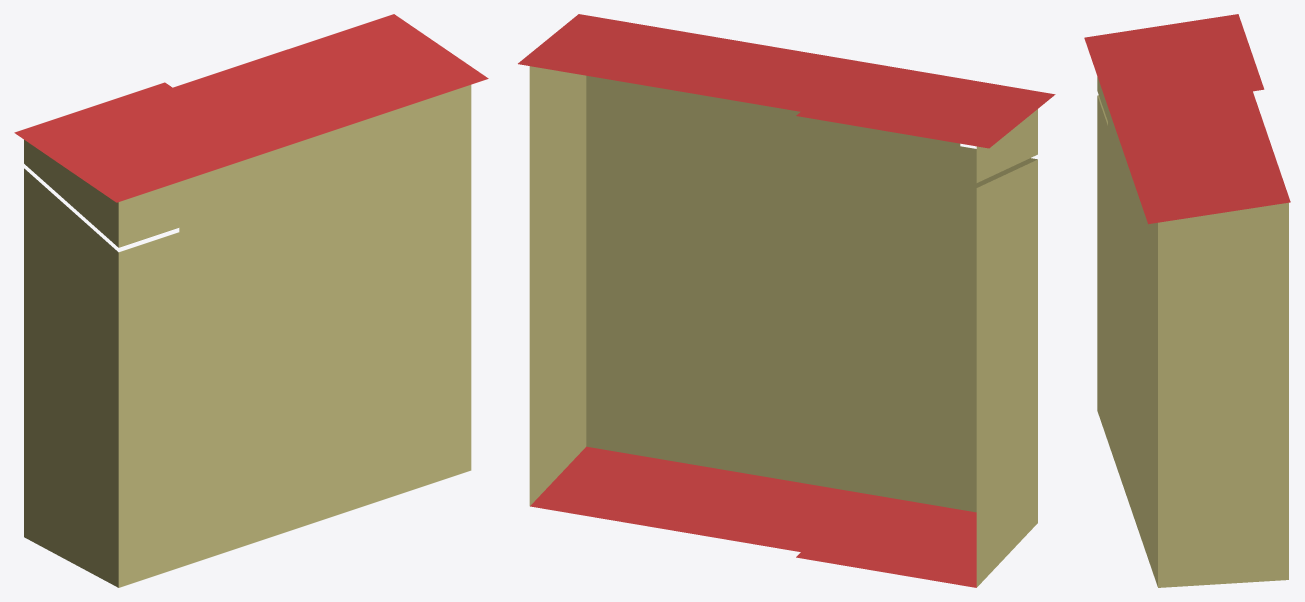
3 views of the same model, side by side, from view 1: azimuth 30°, elevation 25°; view 2: azimuth 150°, elevation 25°; view 3: azimuth 270°, elevation 25° (orthographic). The views are drawn at different scales.
Size of the model in its own units: 9.86 by 4.39 by 8.99.
